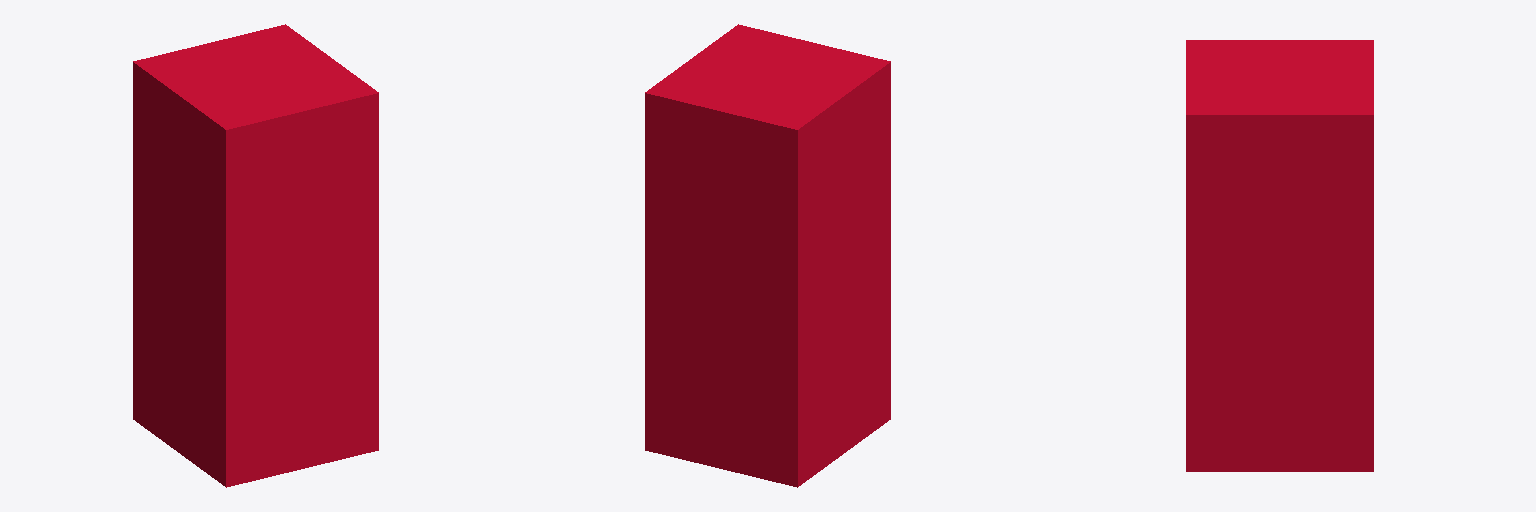
3 renders of one model, left to right at view 1: azimuth 30°, elevation 25°; view 2: azimuth 150°, elevation 25°; view 3: azimuth 270°, elevation 25°, orthographic.
Parts seen in each view (by area): view 1: player_Cube_Cube.010; view 2: player_Cube_Cube.010; view 3: player_Cube_Cube.010.
Part boxes in pixels (bbox=[...]): player_Cube_Cube.010: bbox=[133, 24, 378, 487]; player_Cube_Cube.010: bbox=[645, 24, 890, 487]; player_Cube_Cube.010: bbox=[1186, 40, 1373, 471].
Size of the model in its own units: 1.31 by 2.92 by 1.39.
1 materials, 1 textured.